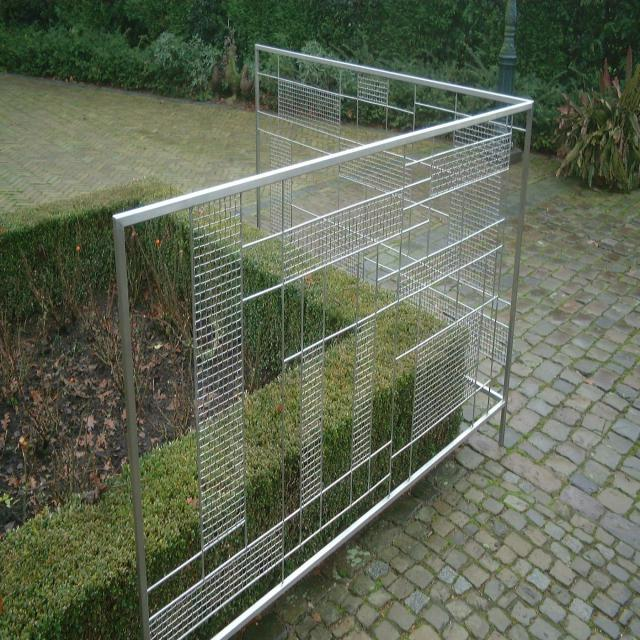fence line: (132, 170, 513, 517), (249, 39, 546, 347)
